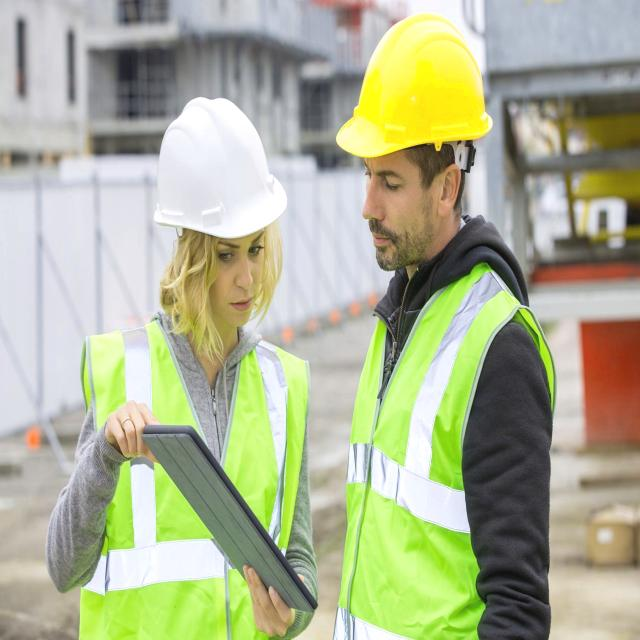face_nomask: (354, 144, 426, 275), (202, 228, 265, 332)
hand_noglove: (96, 391, 162, 468), (237, 562, 302, 640)
head_helmet: (330, 12, 490, 155), (151, 94, 289, 240)
person: (46, 108, 310, 639), (332, 28, 552, 640)
vest: (333, 258, 555, 640), (74, 321, 312, 640)
